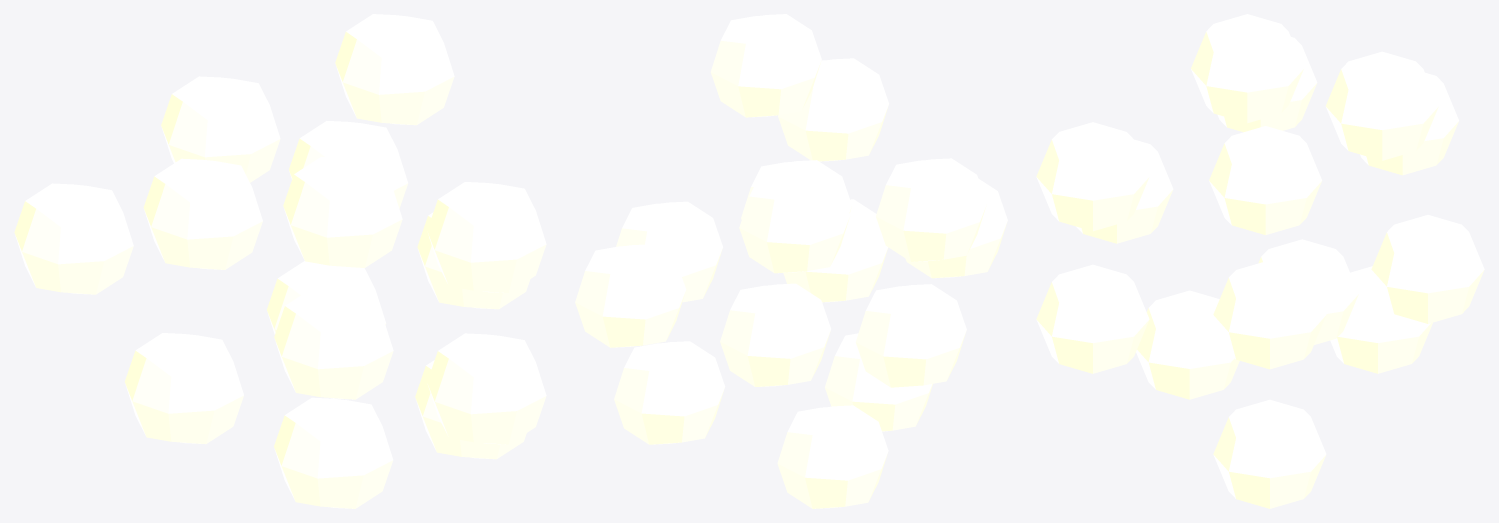
File: Laong.fbx
The picture shows the model from 3 angles, left to right: view 1: azimuth 30°, elevation 25°; view 2: azimuth 150°, elevation 25°; view 3: azimuth 270°, elevation 25°; orthographic projection. The views are drawn at different scales.
Parts seen in each view (by area): view 1: Cube.012, Cube.003, Cube.013, Cube.009, Cube.004, Cube.002, Cube.006, Cube.007, Cube.011, Cube, Cube.010, Cube.001 (+2 smaller); view 2: Cube.006, Cube.004, Cube.001, Cube.005, Cube.002, Cube, Cube.009, Cube.010, Cube.007, Cube.008, Cube.012, Cube.003 (+2 smaller); view 3: Cube.010, Cube.005, Cube.012, Cube.007, Cube.002, Cube.008, Cube.011, Cube, Cube.003, Cube.006, Cube.001, Cube.013 (+2 smaller).
Boxes of the visible parts, x1=… form: Cube.012: x1=427, y1=333, x2=546, y2=444; Cube.003: x1=274, y1=397, x2=393, y2=508; Cube.013: x1=274, y1=288, x2=393, y2=399; Cube.009: x1=14, y1=183, x2=133, y2=294; Cube.004: x1=143, y1=158, x2=262, y2=269; Cube.002: x1=335, y1=14, x2=454, y2=125; Cube.006: x1=124, y1=333, x2=243, y2=444; Cube.007: x1=427, y1=182, x2=546, y2=292; Cube.011: x1=283, y1=157, x2=402, y2=267; Cube: x1=161, y1=76, x2=280, y2=182; Cube.010: x1=289, y1=121, x2=408, y2=208; Cube.001: x1=267, y1=261, x2=386, y2=334; Cube.006: x1=777, y1=405, x2=888, y2=508; Cube.004: x1=876, y1=158, x2=986, y2=261; Cube.001: x1=720, y1=283, x2=830, y2=386; Cube.005: x1=614, y1=341, x2=725, y2=444; Cube.002: x1=710, y1=14, x2=821, y2=117; Cube: x1=739, y1=169, x2=850, y2=273; Cube.009: x1=855, y1=284, x2=966, y2=387; Cube.010: x1=575, y1=244, x2=686, y2=347; Cube.007: x1=778, y1=58, x2=888, y2=161; Cube.008: x1=616, y1=201, x2=722, y2=302; Cube.012: x1=783, y1=199, x2=888, y2=302; Cube.003: x1=825, y1=333, x2=932, y2=431; Cube.010: x1=1371, y1=215, x2=1484, y2=323; Cube.005: x1=1213, y1=399, x2=1326, y2=508; Cube.012: x1=1036, y1=264, x2=1149, y2=373; Cube.007: x1=1036, y1=122, x2=1149, y2=231; Cube.002: x1=1191, y1=14, x2=1303, y2=123; Cube.008: x1=1213, y1=260, x2=1326, y2=369; Cube.011: x1=1209, y1=126, x2=1322, y2=235; Cube: x1=1325, y1=51, x2=1438, y2=160; Cube.003: x1=1136, y1=290, x2=1239, y2=399; Cube.006: x1=1330, y1=266, x2=1432, y2=373; Cube.001: x1=1258, y1=239, x2=1358, y2=344; Cube.013: x1=1076, y1=139, x2=1173, y2=243.
Bounding box in the file's own units: 7.03 × 7.29 × 6.64.
